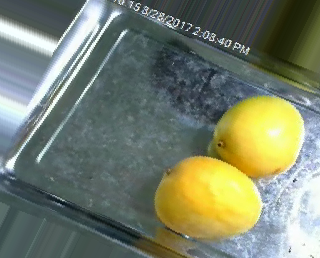Mango: (154, 155, 263, 238), (216, 95, 305, 176)
